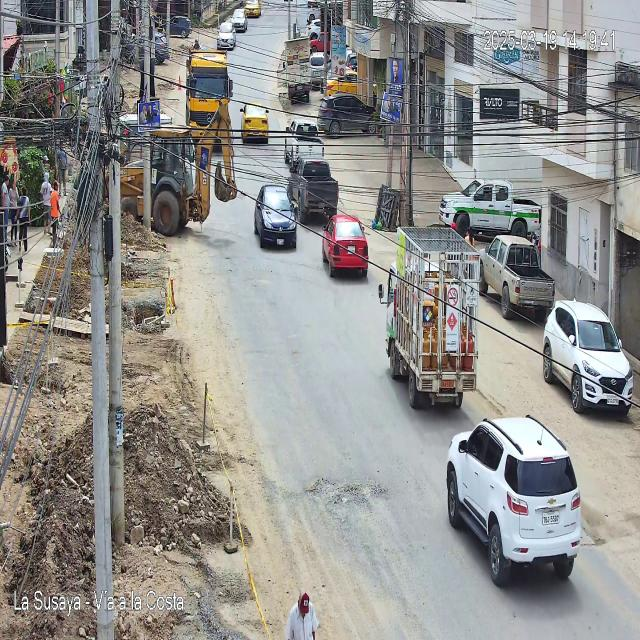SUV: (444, 418, 582, 591)
TRUCK: (386, 224, 480, 410)
